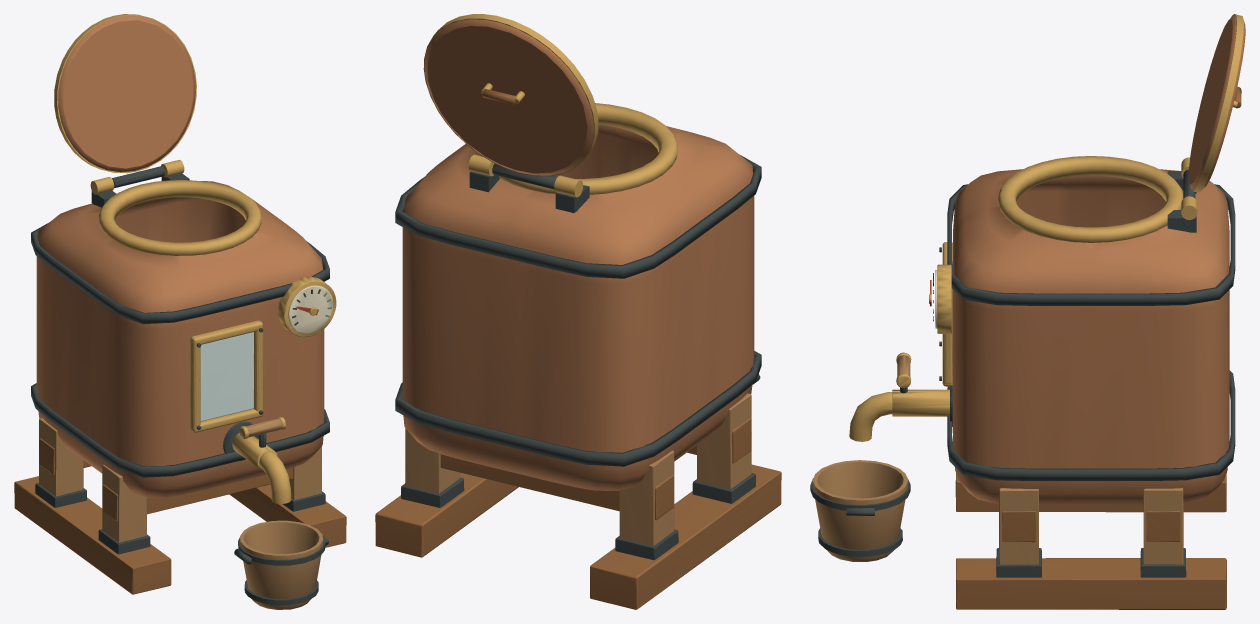
Rendered from SmallFermentationStation.fbx.
3 views of the same model, side by side, from view 1: azimuth 30°, elevation 25°; view 2: azimuth 150°, elevation 25°; view 3: azimuth 270°, elevation 25° (orthographic). The views are drawn at different scales.
Parts seen in each view (by area): view 1: Fermenter_MainTank, Fermenter_InputLid, Fermenter_WoodenFrame, Fermenter_MetalBands, Fermenter_InputOpening, Fermenter_OutputBucket, Fermenter_InspectionGlass, Fermenter_ProgressDial, Fermenter_OutputTap, Fermenter_OutputHandle; view 2: Fermenter_MainTank, Fermenter_WoodenFrame, Fermenter_InputLid, Fermenter_MetalBands, Fermenter_InputOpening; view 3: Fermenter_MainTank, Fermenter_WoodenFrame, Fermenter_MetalBands, Fermenter_OutputBucket, Fermenter_InputOpening, Fermenter_InputLid, Fermenter_OutputTap, Fermenter_ProgressDial.
Boxes of the visible parts, x1,y1,x2,y2 form: Fermenter_MainTank: (36,181,324,497); Fermenter_InputLid: (54,14,196,188); Fermenter_WoodenFrame: (14,418,346,594); Fermenter_MetalBands: (31,223,329,477); Fermenter_InputOpening: (90,160,261,255); Fermenter_OutputBucket: (234,520,328,609); Fermenter_InspectionGlass: (200,332,253,421); Fermenter_ProgressDial: (278,276,336,337); Fermenter_OutputTap: (223,421,291,503); Fermenter_OutputHandle: (239,417,285,447); Fermenter_MainTank: (402,124,754,490); Fermenter_WoodenFrame: (375,393,781,609); Fermenter_InputLid: (423,14,598,189); Fermenter_MetalBands: (395,154,761,466); Fermenter_InputOpening: (468,103,678,212); Fermenter_MainTank: (952,169,1229,505); Fermenter_WoodenFrame: (955,472,1226,609); Fermenter_MetalBands: (939,184,1235,480); Fermenter_OutputBucket: (810,460,910,561); Fermenter_InputOpening: (998,156,1197,242); Fermenter_InputLid: (1183,14,1245,198); Fermenter_OutputTap: (849,386,952,441); Fermenter_ProgressDial: (933,264,951,333).
Size of the model in its own units: 0.98 by 2.02 by 1.51.
